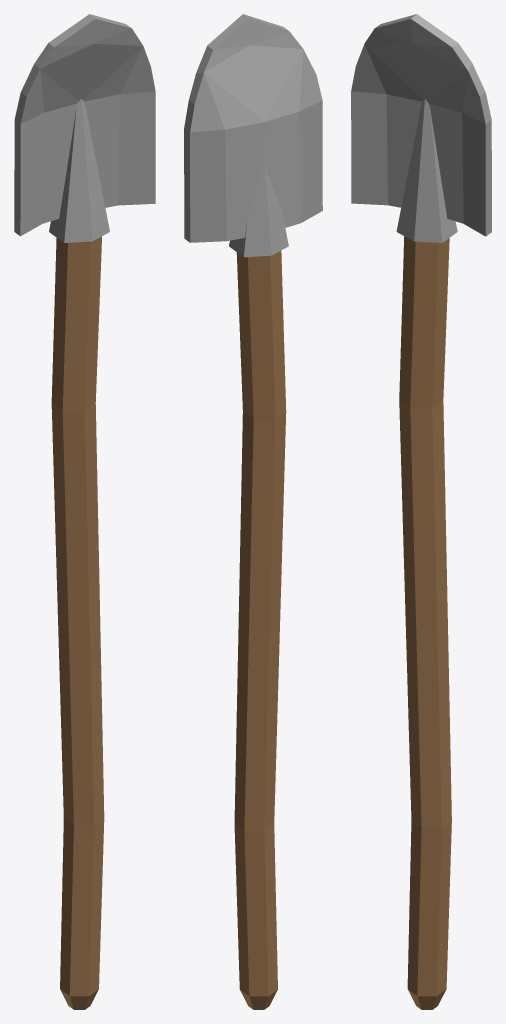
Rendered from Shovel.fbx.
3 views of the same model, side by side, from view 1: azimuth 30°, elevation 25°; view 2: azimuth 210°, elevation 25°; view 3: azimuth 330°, elevation 25° (orthographic).
Parts seen in each view (by area): view 1: Shovel; view 2: Shovel; view 3: Shovel.
Part boxes in pixels (x1,y1,x2,y2): Shovel: [14, 14, 155, 1009]; Shovel: [184, 14, 322, 1009]; Shovel: [351, 14, 491, 1009].
Bounding box in the file's own units: 18.36 × 130 × 6.86.
